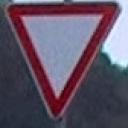preferencia: (5, 2, 124, 120)
